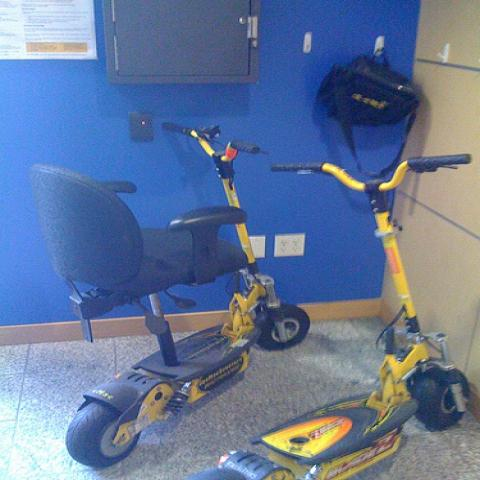motorcycle: (29, 116, 474, 479)
